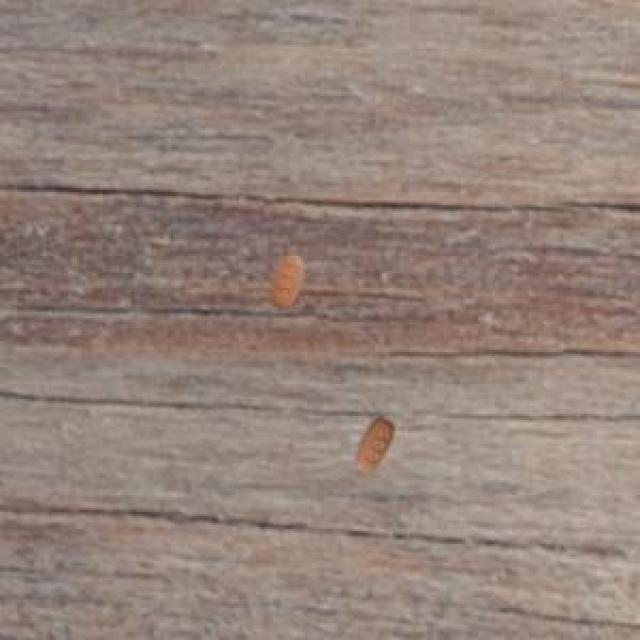Biogesic: (244, 228, 325, 326), (337, 398, 408, 492)
